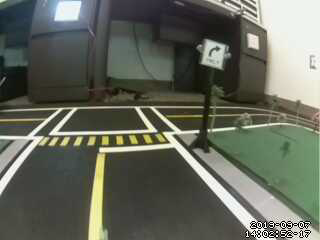Right_only_sign: (202, 36, 230, 70)
